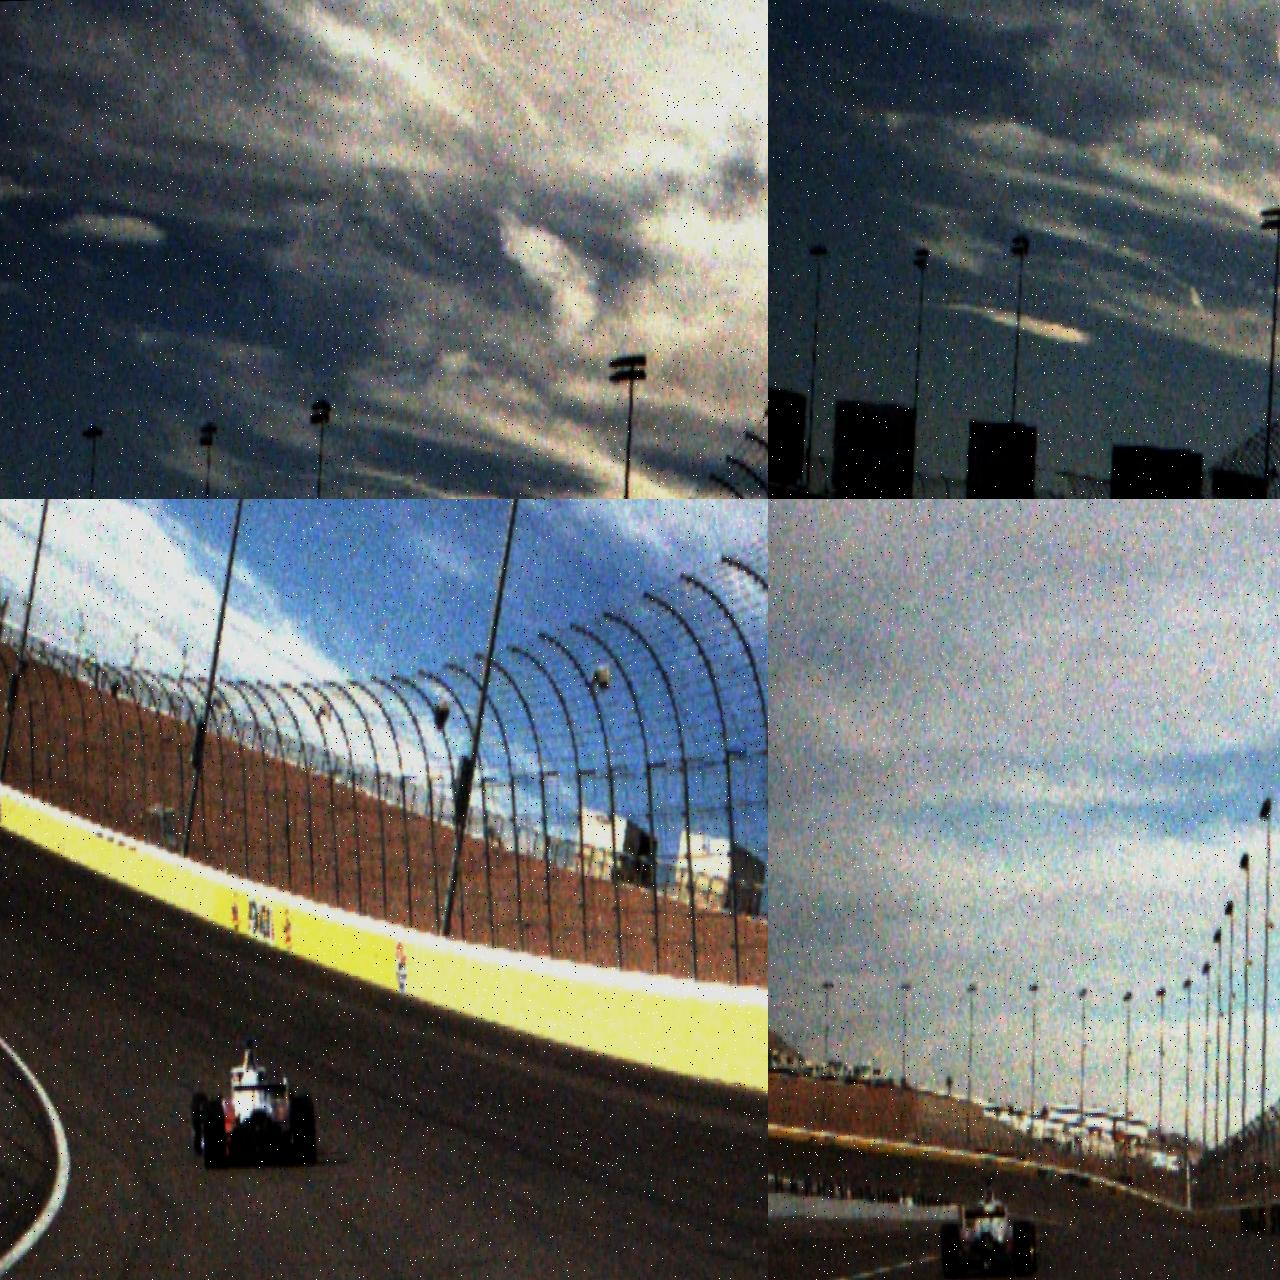AV: (189, 1035, 316, 1171), (939, 1173, 1037, 1280)
Wheel: (200, 1099, 225, 1170), (291, 1095, 315, 1165), (1013, 1219, 1034, 1276), (191, 1091, 210, 1155), (941, 1223, 961, 1279)
